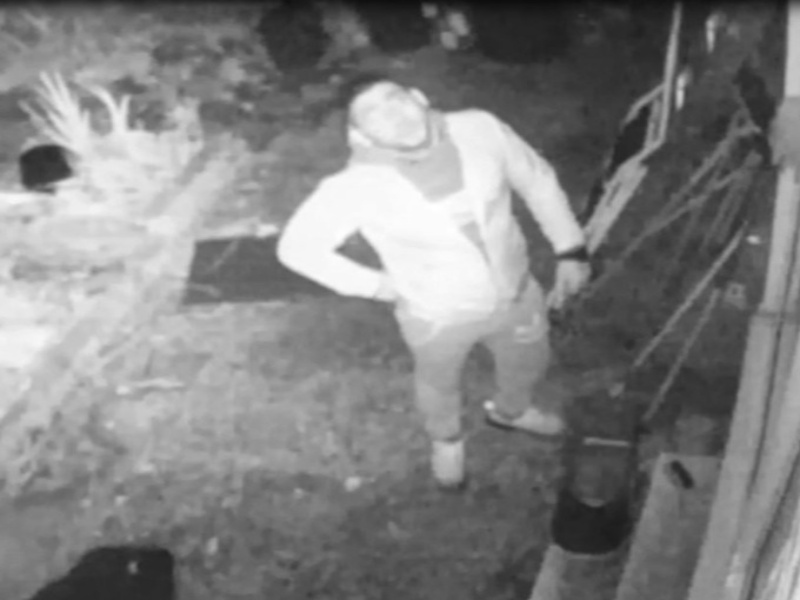person: (271, 73, 600, 496)
